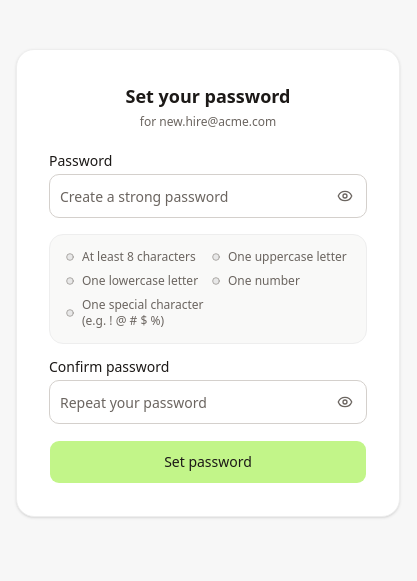
Test: SetPasswordPage password validation › rejects a password that is no uppercase
In the password field labelled "Password": (208, 196) left=49, top=174, right=367, bottom=218, type "abcdefg1!"
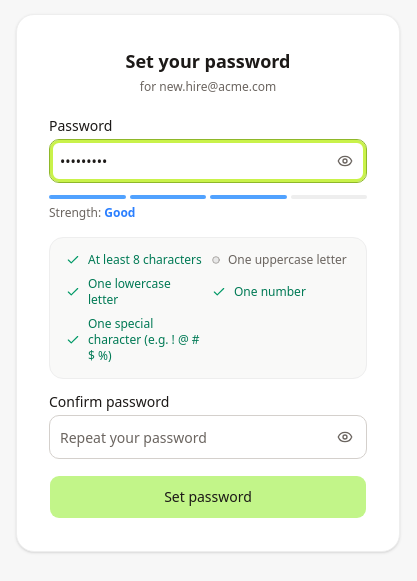
In the password field labelled "Confirm password": (208, 437) left=49, top=415, right=367, bottom=459, type "abcdefg1!"
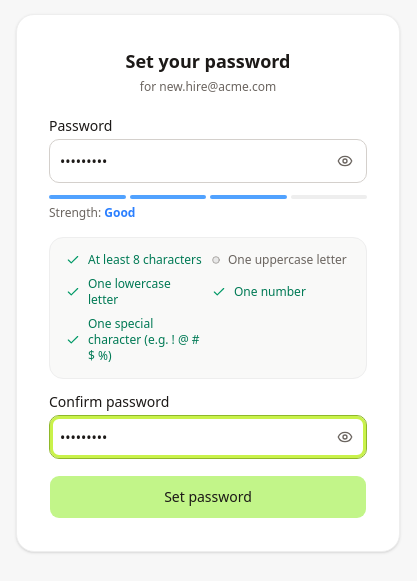
Click the button "Set password": (208, 497) left=49, top=475, right=367, bottom=519
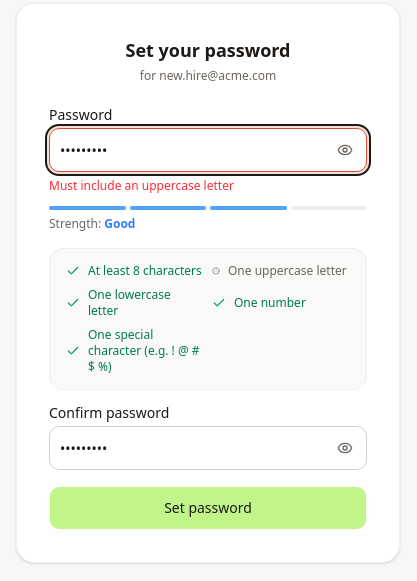
Expected: the text "Must include an uppercase letter" is shown, left=49, top=177, right=234, bottom=194
